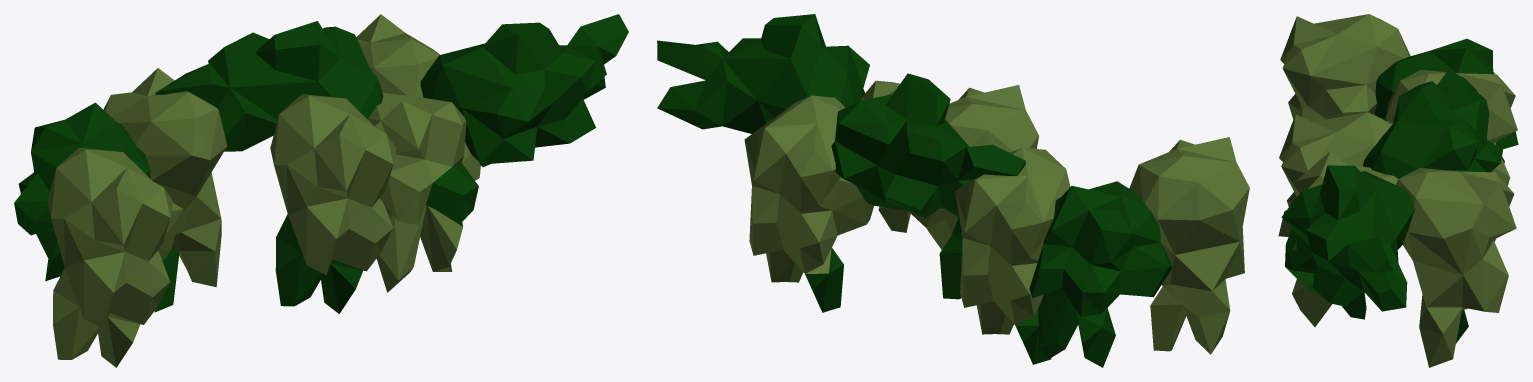
The model's file is LightVegetationWallMediumOvergrownTopper2.fbx.
3 renders of one model, left to right at view 1: azimuth 30°, elevation 25°; view 2: azimuth 150°, elevation 25°; view 3: azimuth 270°, elevation 25°, orthographic. The views are drawn at different scales.
Visible parts, largest first — view 1: LightVegetationWallMediumOvergrownTopper2; view 2: LightVegetationWallMediumOvergrownTopper2; view 3: LightVegetationWallMediumOvergrownTopper2.
Part boxes in pixels (x1,y1,x2,y2): LightVegetationWallMediumOvergrownTopper2: (14, 14, 628, 367); LightVegetationWallMediumOvergrownTopper2: (657, 14, 1249, 367); LightVegetationWallMediumOvergrownTopper2: (1278, 14, 1518, 367).
Bounding box in the file's own units: 1511 × 634 × 584.
